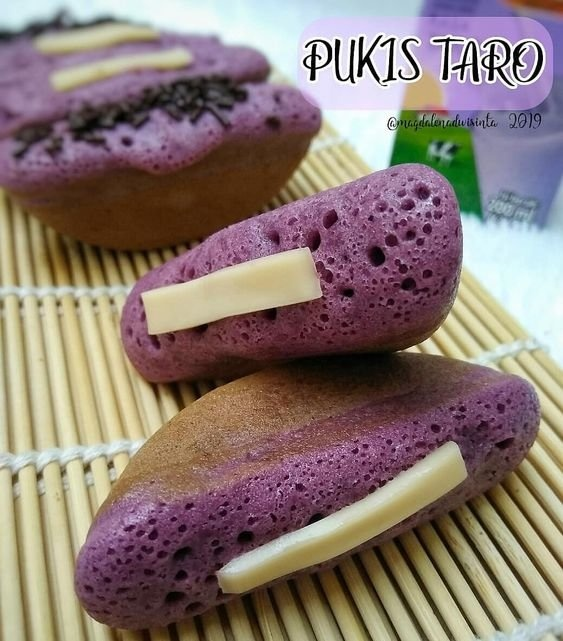pukis: (36, 67, 277, 245)
